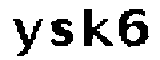6: (117, 7, 151, 48)
k: (81, 6, 113, 48)
s: (47, 17, 76, 50)
y: (10, 16, 45, 60)
